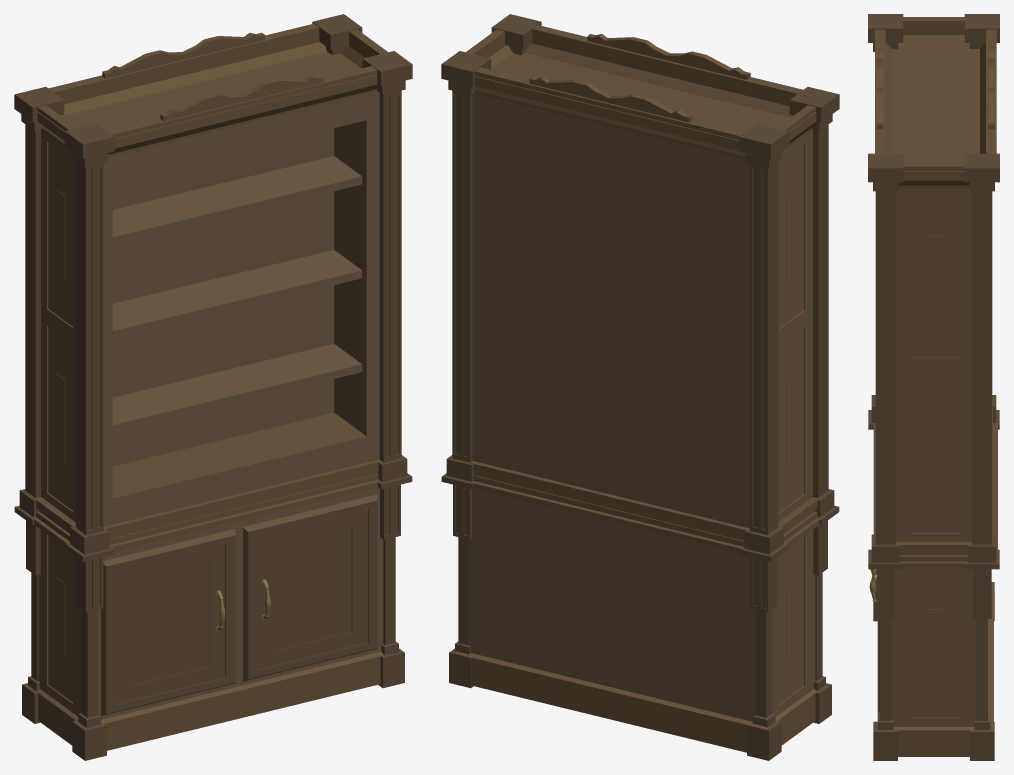
File: quaternius-furniture-pack-march-bookcase.glb
3 views of the same model, side by side, from view 1: azimuth 30°, elevation 25°; view 2: azimuth 150°, elevation 25°; view 3: azimuth 270°, elevation 25° (orthographic). The views are drawn at different scales.
Visible parts, largest first — view 1: BookCase_Single; view 2: BookCase_Single; view 3: BookCase_Single.
Boxes of the visible parts, left/top/right/bottom form: BookCase_Single: left=14, top=14, right=412, bottom=760; BookCase_Single: left=441, top=14, right=839, bottom=760; BookCase_Single: left=868, top=14, right=999, bottom=760.
Size of the model in its own units: 1.84 by 3.37 by 0.6642.
